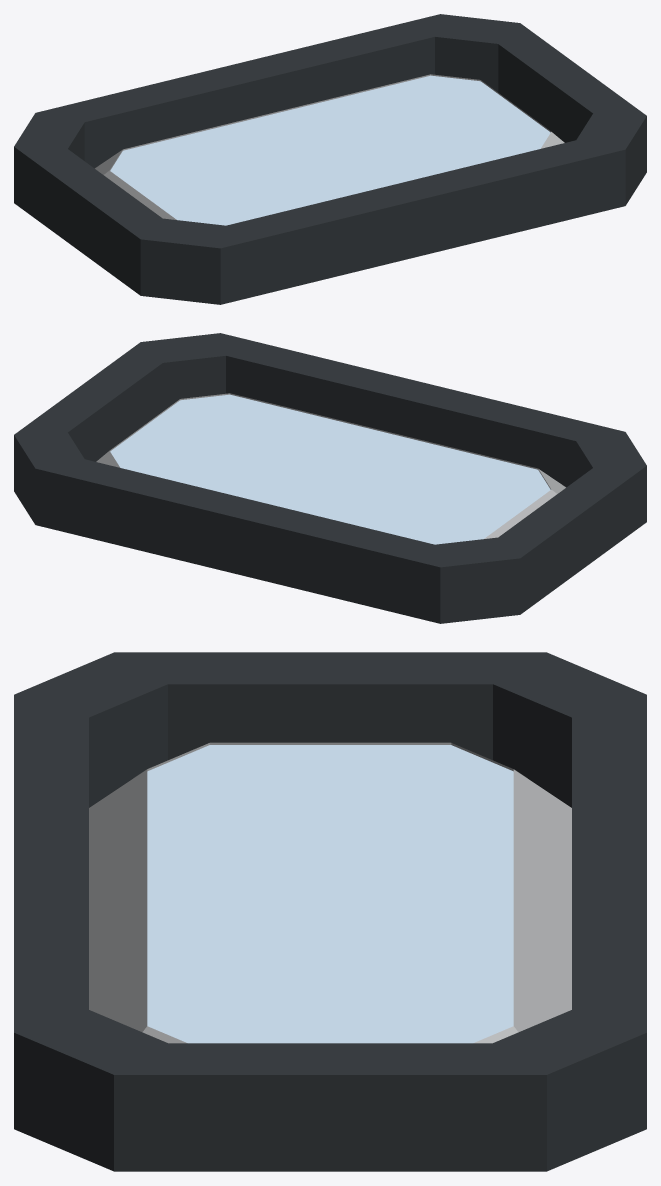
Rendered from SM_OmenRoom_CeilingCenter.fbx.
3 renders of one model, top to bottom at view 1: azimuth 30°, elevation 25°; view 2: azimuth 150°, elevation 25°; view 3: azimuth 270°, elevation 25°, orthographic. The views are drawn at different scales.
Parts seen in each view (by area): view 1: SM_OmenRoom_CeilingCenter; view 2: SM_OmenRoom_CeilingCenter; view 3: SM_OmenRoom_CeilingCenter.
Part boxes in pixels (x1,y1,x2,y2): SM_OmenRoom_CeilingCenter: (14,14,646,304); SM_OmenRoom_CeilingCenter: (14,333,646,623); SM_OmenRoom_CeilingCenter: (14,652,646,1171).
Bounding box in the file's own units: 1200 × 760 × 134.
